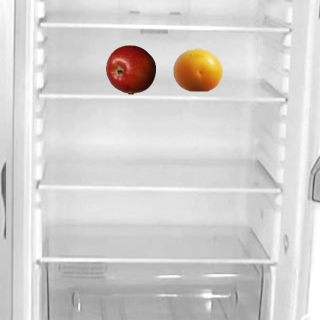Apple Braeburn: (105, 44, 155, 94)
Cherry Wax Yellow: (172, 44, 222, 94)
